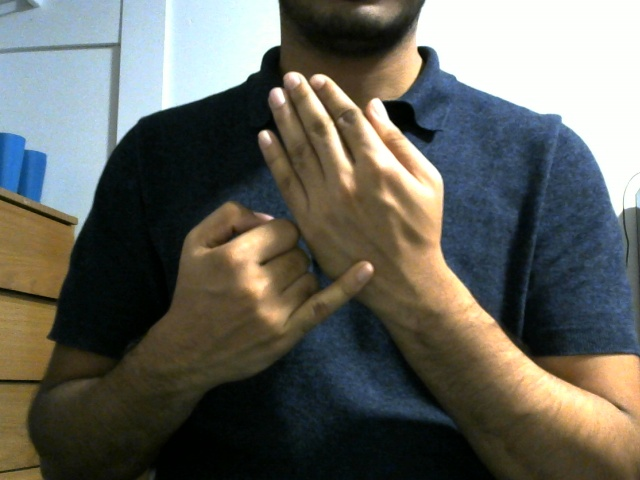Project: (175, 57, 451, 369)
